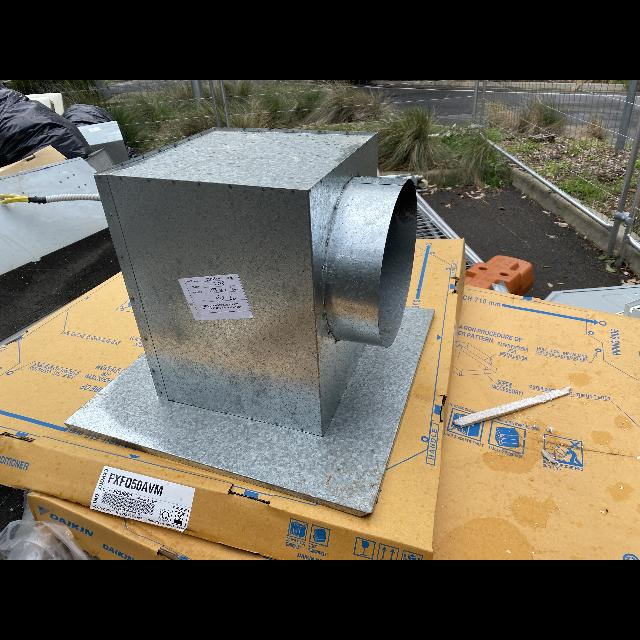Galvanized Steel: (64, 127, 435, 517), (0, 201, 108, 276), (0, 157, 98, 195), (78, 120, 129, 171), (417, 191, 461, 239), (564, 284, 640, 292), (464, 243, 484, 265), (544, 292, 556, 301)
